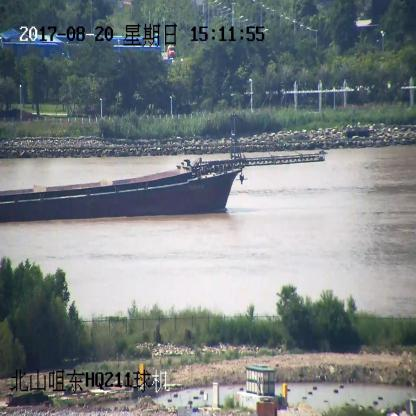Bulk Carrier: (0, 118, 322, 223)
